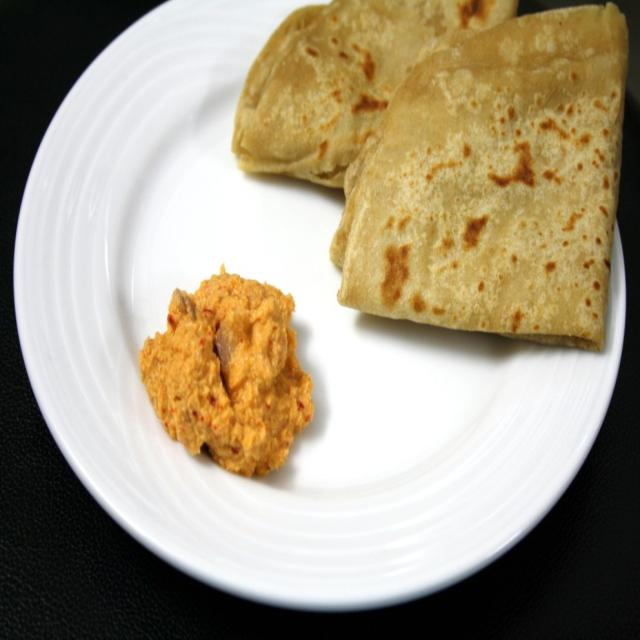chapathi: (330, 12, 632, 366), (216, 0, 549, 209)
